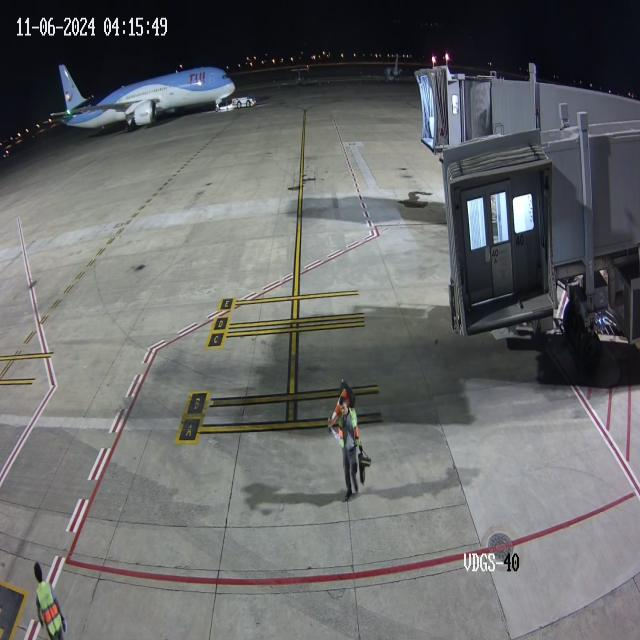bridge: (434, 66, 492, 152)
plane: (44, 2, 262, 138)
window: (222, 72, 234, 83)
